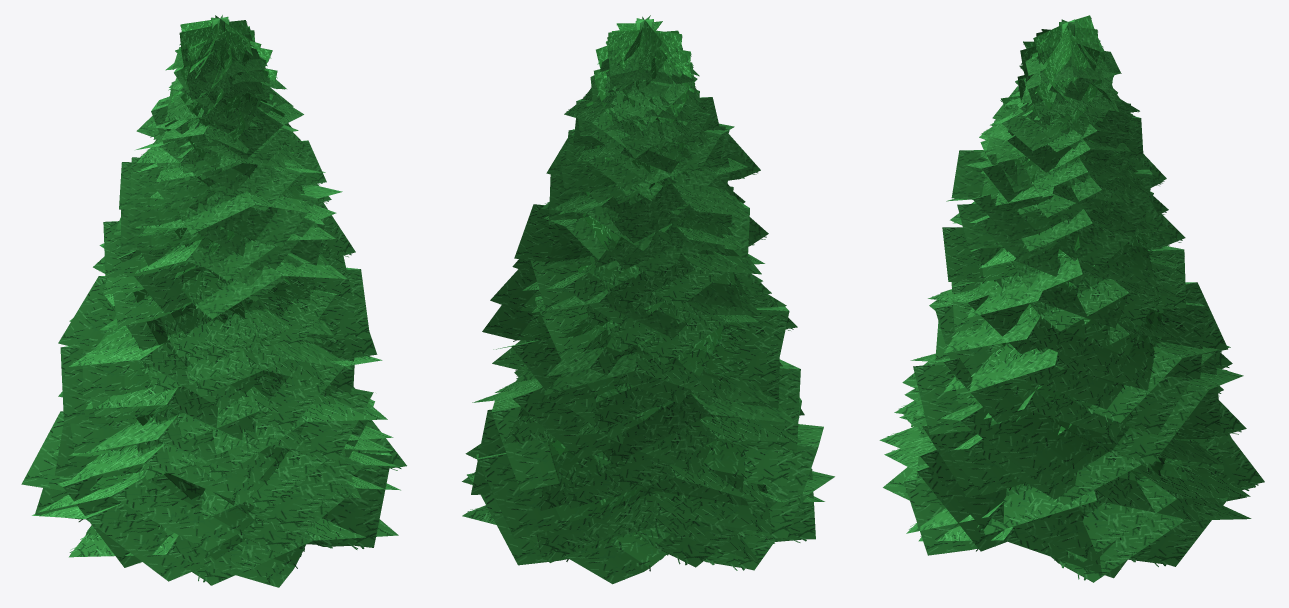
File: pine_tree__low_poly_stylized_tree.glb
3 views of the same model, side by side, from view 1: azimuth 30°, elevation 25°; view 2: azimuth 150°, elevation 25°; view 3: azimuth 270°, elevation 25° (orthographic).
Visible parts, largest first — view 1: TreeBranch; view 2: TreeBranch; view 3: TreeBranch.
Part boxes in pixels (bbox=[...]): TreeBranch: bbox=[21, 15, 406, 587]; TreeBranch: bbox=[462, 15, 834, 584]; TreeBranch: bbox=[879, 15, 1264, 582].
Bounding box in the file's own units: 10.45 × 14.77 × 10.54.
2 materials, 2 textured.
